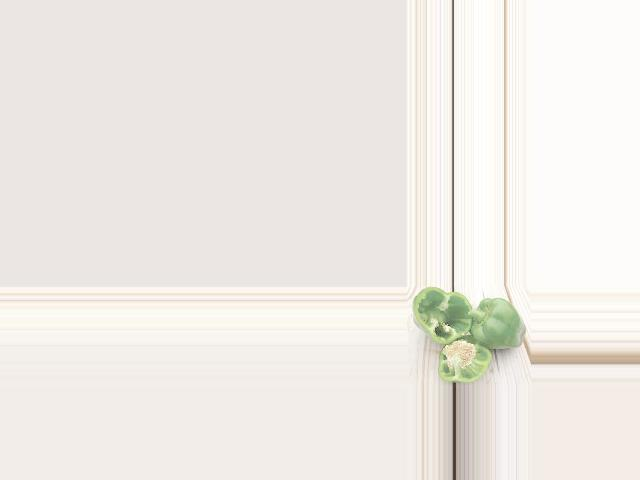bell_pepper: (427, 336, 495, 382)
